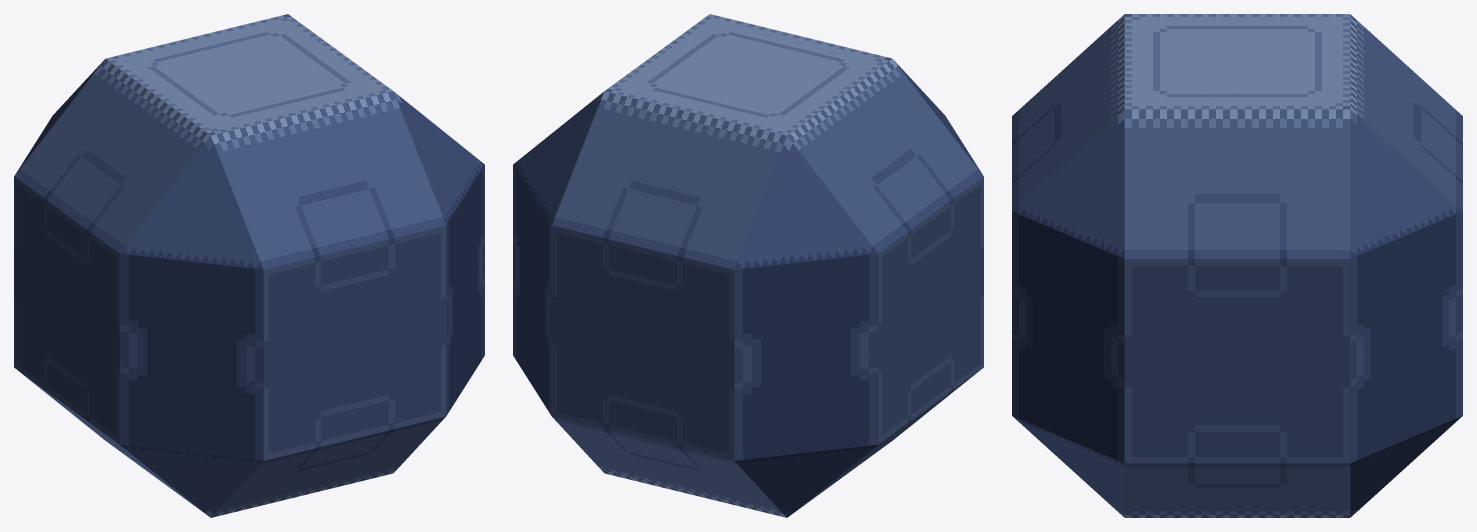
The model's file is 3d_diamond.gltf.
3 views of the same model, side by side, from view 1: azimuth 30°, elevation 25°; view 2: azimuth 150°, elevation 25°; view 3: azimuth 270°, elevation 25° (orthographic). The views are drawn at different scales.
Visible parts, largest first — view 1: diamond; view 2: diamond; view 3: diamond.
Part boxes in pixels (x1,y1,x2,y2): diamond: [14, 14, 484, 517]; diamond: [513, 14, 983, 517]; diamond: [1012, 14, 1462, 517].
Bounding box in the file's own units: 0.64 × 0.64 × 0.64.
Materials: 1 (1 with a texture image).
